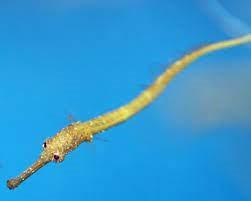Long-Snouted Pipefish: (8, 32, 251, 191)
